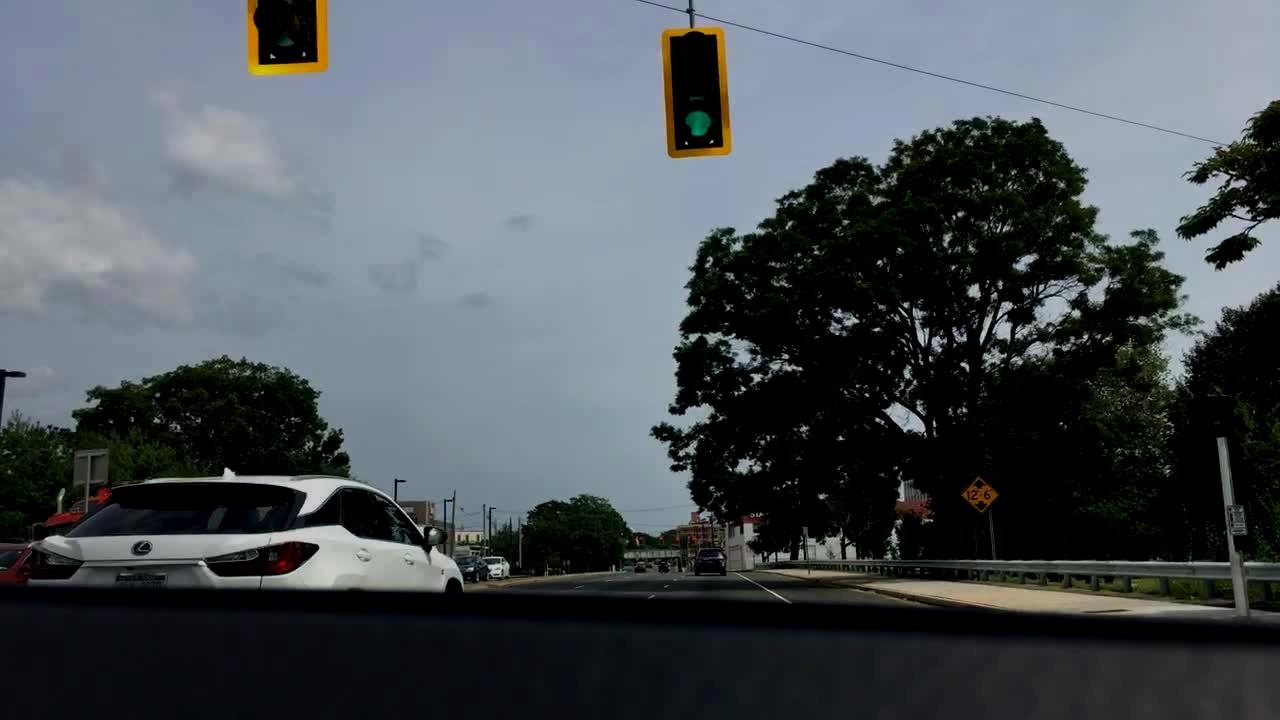lexus: (130, 534, 155, 559)
